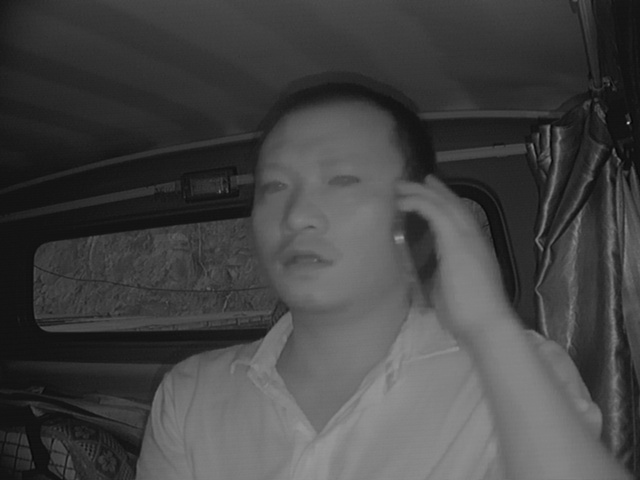hand: (391, 177, 501, 329)
